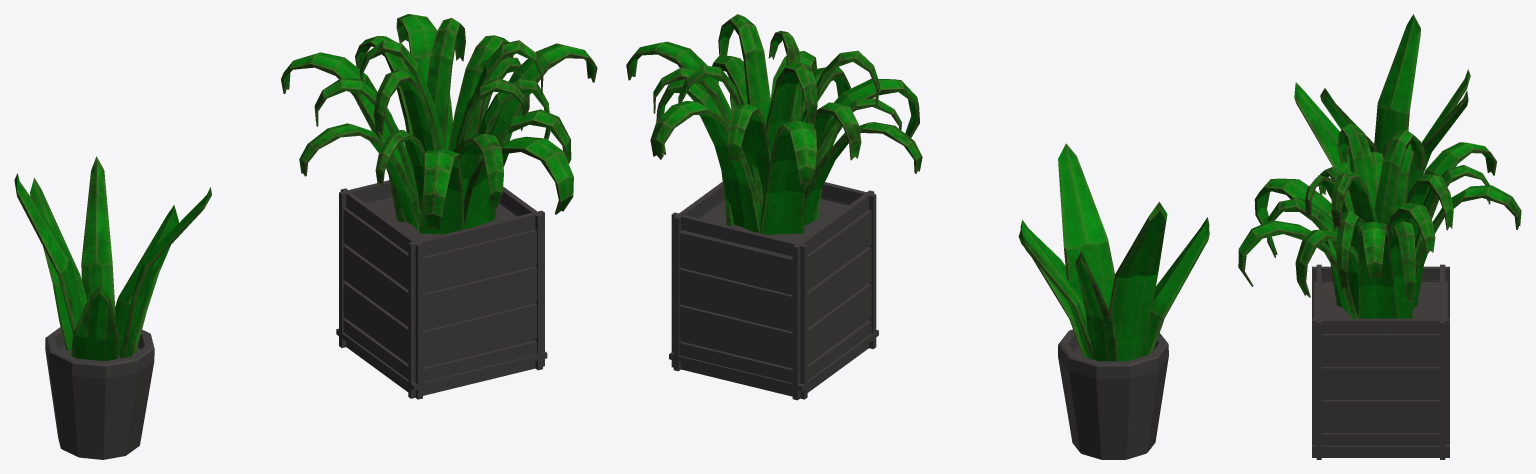
File: AslanHoue_Plants.fbx
3 views of the same model, side by side, from view 1: azimuth 30°, elevation 25°; view 2: azimuth 150°, elevation 25°; view 3: azimuth 270°, elevation 25° (orthographic). The views are drawn at different scales.
Visible parts, largest first — view 1: pot.002, flowerpot.002; view 2: pot.002, flowerpot.002; view 3: pot.002, flowerpot.002.
Boxes of the visible parts, x1,y1,x2,y2 form: pot.002: (281,14,597,399); flowerpot.002: (14,156,211,459); pot.002: (626,14,922,400); flowerpot.002: (1018,143,1209,459); pot.002: (1238,123,1521,459); flowerpot.002: (1294,14,1470,201).
Size of the model in its own units: 171 by 93.47 by 83.9.
Materials: 1 (1 with a texture image).
